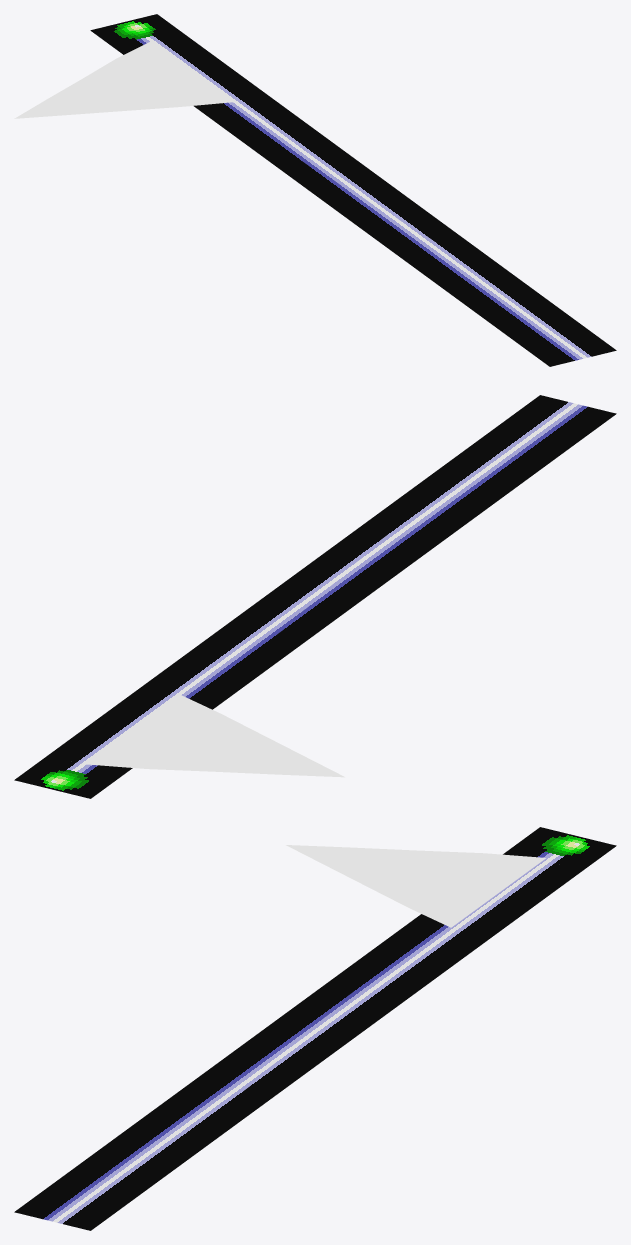
File: all_goal_flag.fbx
The picture shows the model from 3 angles, top to bottom: view 1: azimuth 30°, elevation 25°; view 2: azimuth 150°, elevation 25°; view 3: azimuth 330°, elevation 25°; orthographic projection. The views are drawn at different scales.
Parts seen in each view (by area): view 1: all_goal_flag; view 2: all_goal_flag; view 3: all_goal_flag.
Part boxes in pixels (x1,y1,x2,y2): all_goal_flag: (14, 14, 616, 366); all_goal_flag: (14, 395, 616, 798); all_goal_flag: (14, 827, 616, 1230).
Bounding box in the file's own units: 5165 × 37.11 × 18998.
Materials: 2 (1 with a texture image).
